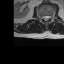CCS_normal: (45, 13, 47, 22)
LFS_normal: (50, 13, 52, 19)
LLS_normal: (47, 13, 50, 21)
RFS_normal: (40, 14, 42, 20)
RLS_normal: (42, 13, 45, 21)
